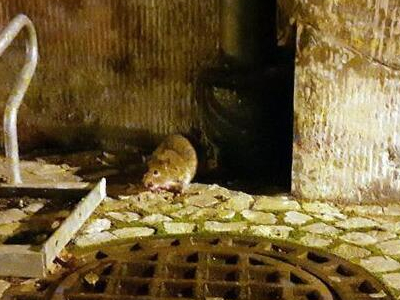rat: (134, 117, 213, 203)
